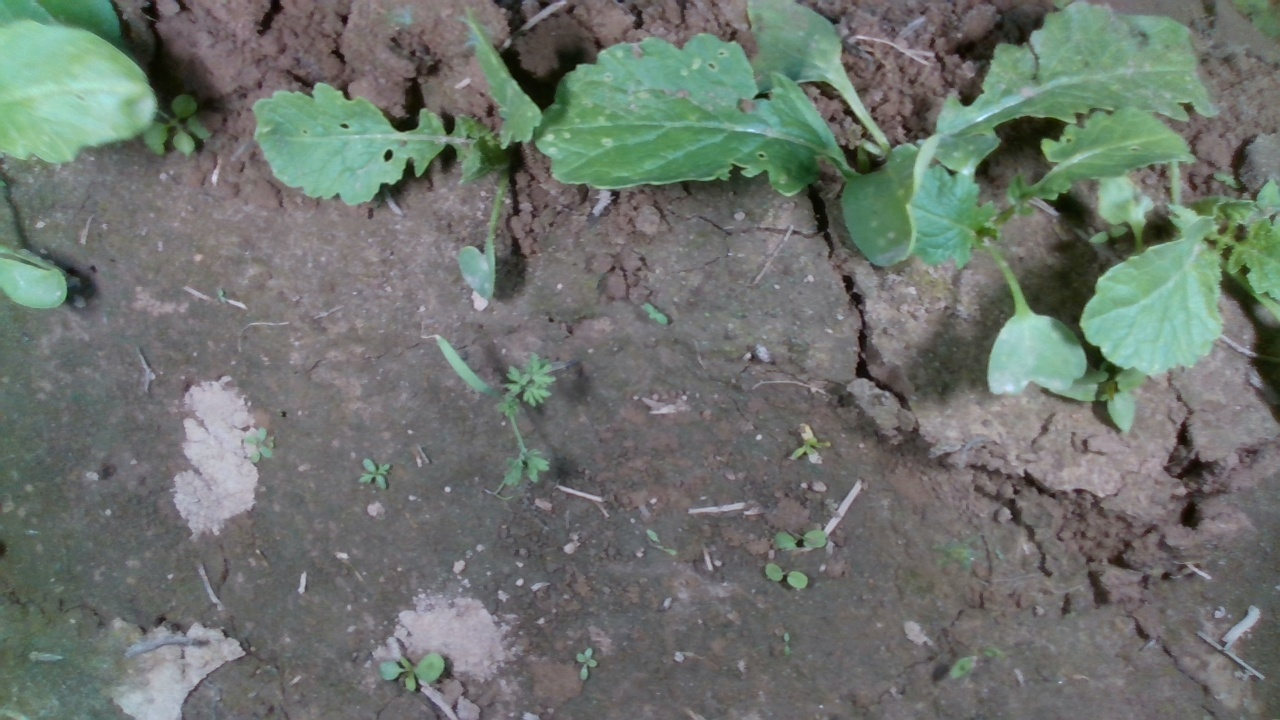weed: (376, 651, 446, 695), (763, 561, 809, 590), (244, 423, 275, 464), (356, 456, 392, 491), (770, 528, 827, 549), (572, 646, 598, 681), (638, 301, 669, 327), (779, 630, 792, 659)
